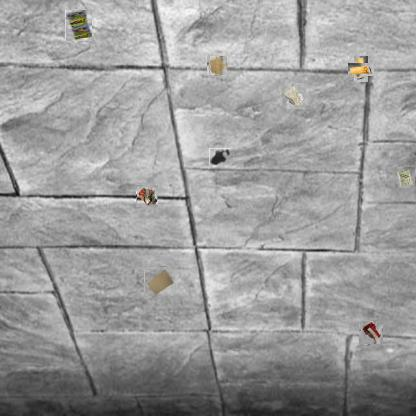dirty: (144, 266, 174, 296), (65, 9, 92, 41), (281, 84, 305, 109), (360, 321, 383, 345), (136, 186, 158, 208), (395, 167, 415, 187), (351, 59, 371, 79)
liquid: (208, 57, 227, 76), (209, 148, 230, 165)
